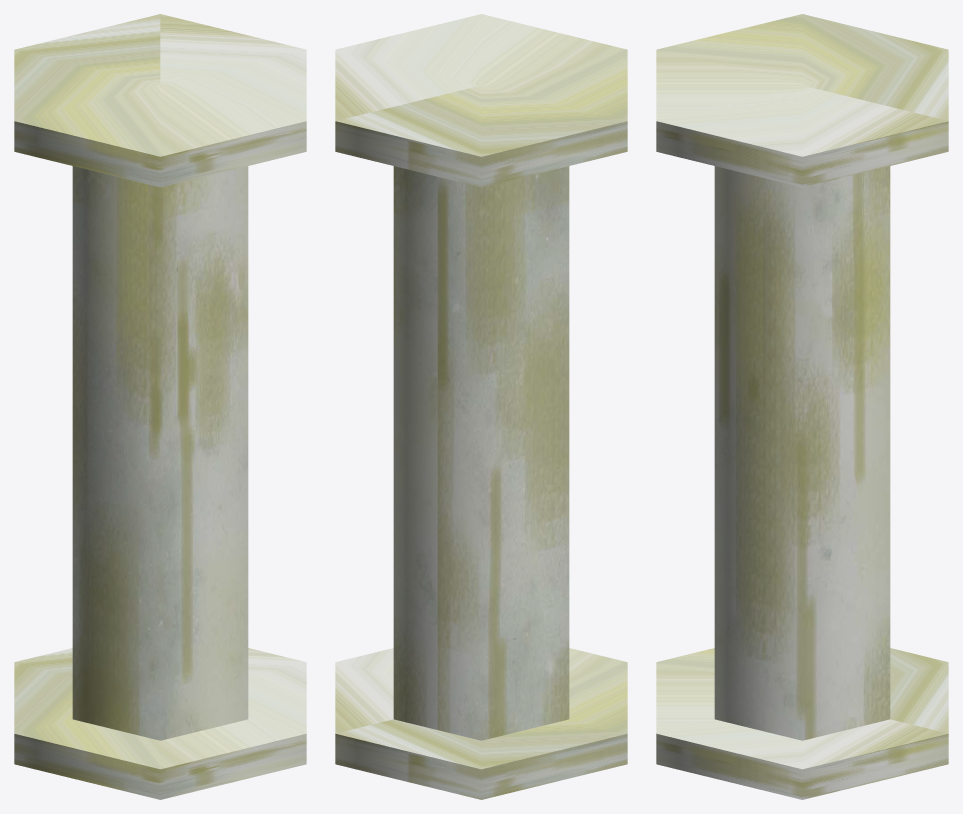
The model's file is AncientColumn.FBX.
3 views of the same model, side by side, from view 1: azimuth 30°, elevation 25°; view 2: azimuth 150°, elevation 25°; view 3: azimuth 270°, elevation 25° (orthographic).
Parts seen in each view (by area): view 1: Cylinder003, Cylinder002, Cylinder001; view 2: Cylinder003, Cylinder002, Cylinder001; view 3: Cylinder003, Cylinder002, Cylinder001.
Boxes of the visible parts, bbox=[...] form: Cylinder003: bbox=[72, 166, 248, 740]; Cylinder002: bbox=[14, 14, 306, 187]; Cylinder001: bbox=[14, 648, 306, 799]; Cylinder003: bbox=[393, 166, 569, 740]; Cylinder002: bbox=[335, 14, 627, 187]; Cylinder001: bbox=[335, 648, 627, 799]; Cylinder003: bbox=[714, 166, 890, 740]; Cylinder002: bbox=[656, 14, 948, 187]; Cylinder001: bbox=[656, 648, 948, 799].
Size of the model in its own units: 10 by 8.66 by 21.
1 material, 1 textured.
